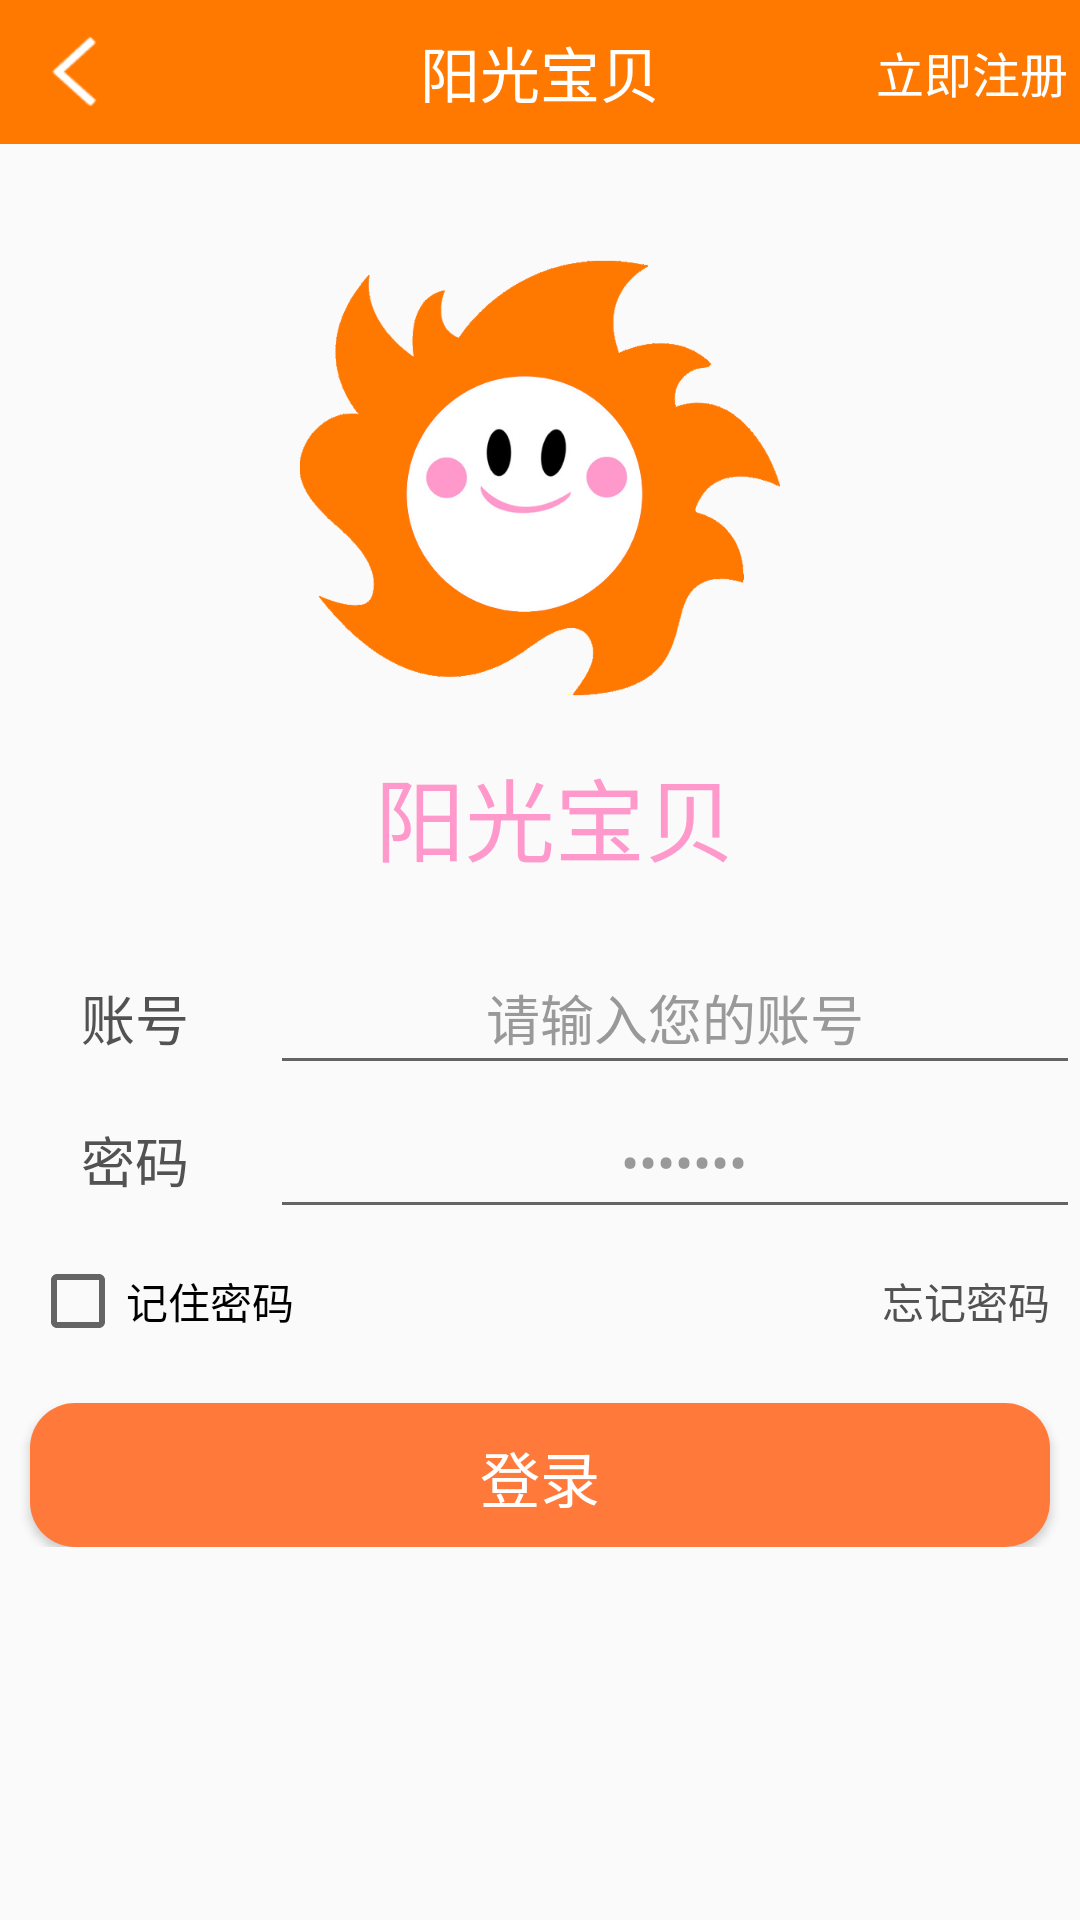

Icon bounding boxes for this 1080w x 1920h phone screenshot, format (x1, y1, x2, y2):
back: (52, 37, 96, 106)
